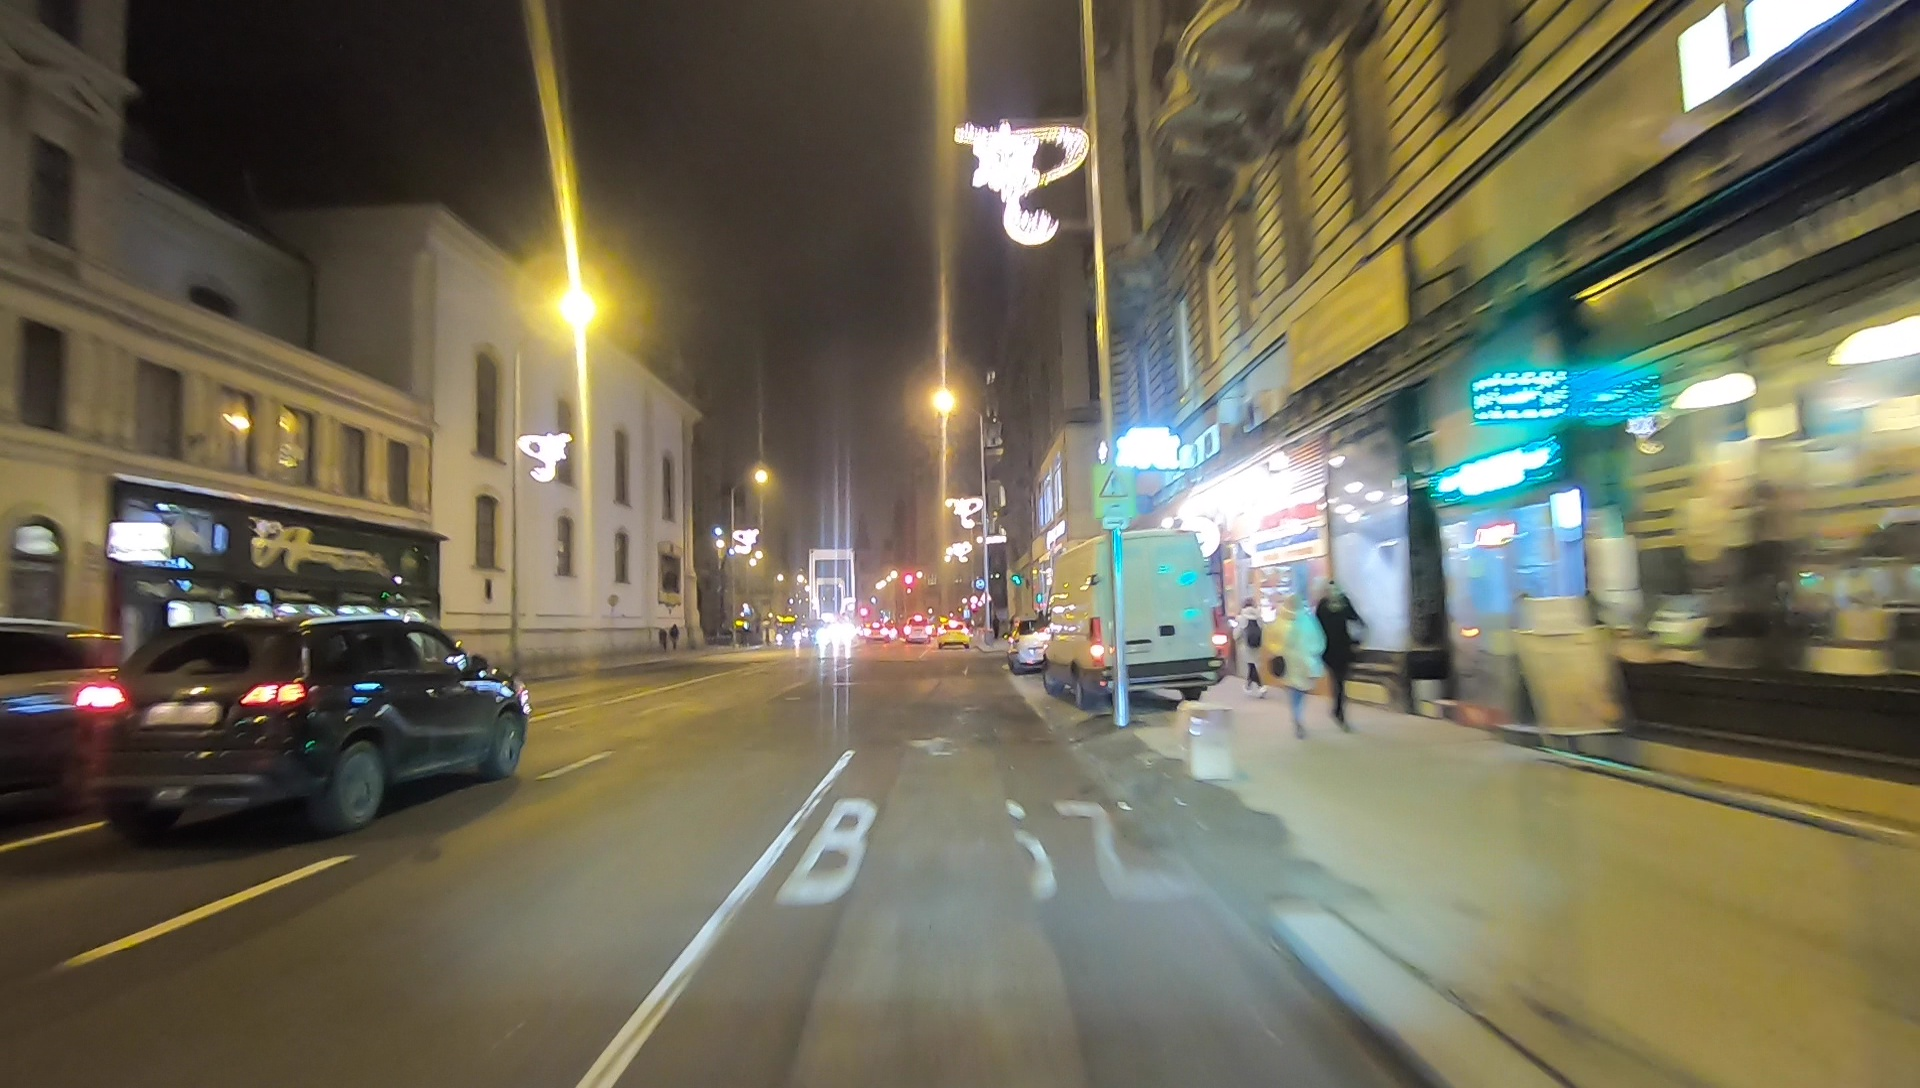person: (1269, 589, 1321, 741), (1321, 584, 1364, 737), (1234, 600, 1269, 697)
